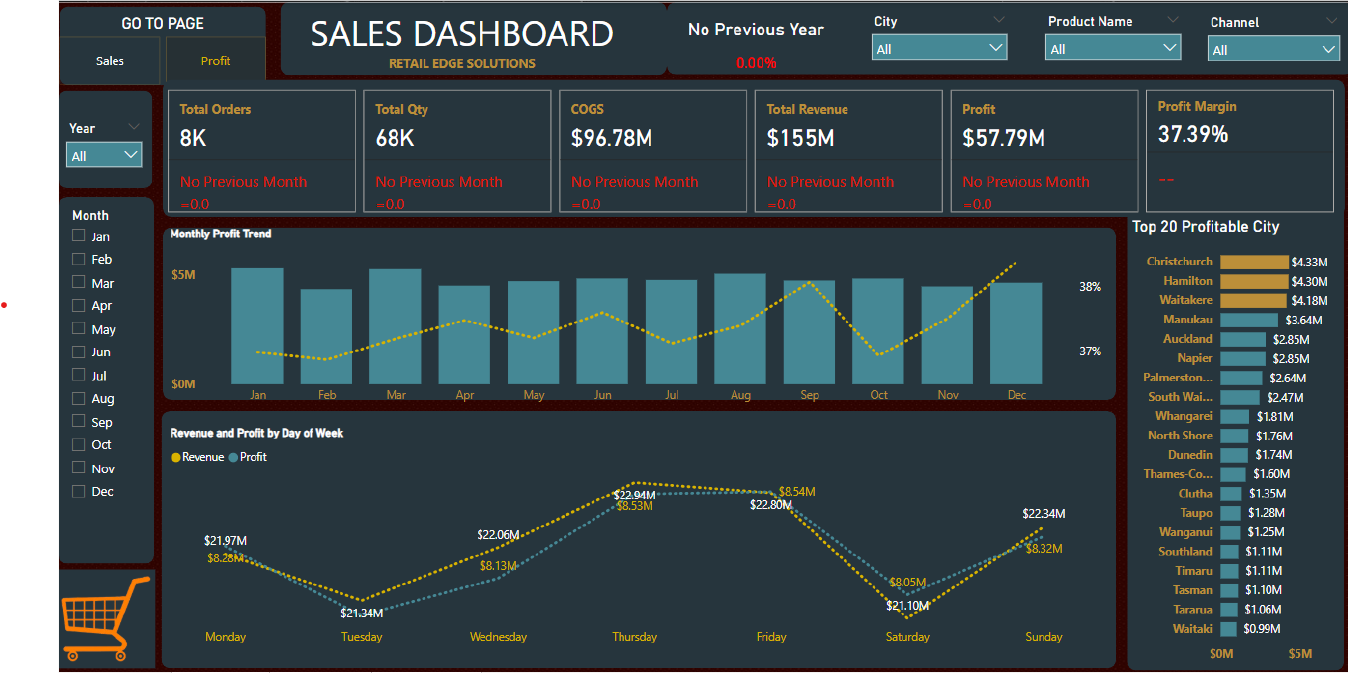

The page's visual inventory and layout, read from the dashboard file:
{"tool":"powerbi","page":{"name":"Profit","canvas":[1400,720],"ordinal":1},"visuals":[{"type":"shape","box":[695.6,6.6,703.9,74.5],"z":0},{"type":"shape","box":[3.3,92.7,1396.1,139.1],"z":1000},{"type":"shape","box":[0,231.9,139.1,488.6],"z":2000},{"type":"shape","box":[144.1,231.9,997,240.1],"z":3000},{"type":"shape","box":[1156,231.9,243.5,488.6],"z":4000},{"type":"shape","box":[144.1,486.9,997,233.5],"z":5000},{"type":"cardVisual","fields":{"Data":["Calculations.Total Orders","Calculations.Qty Ordered","Calculations.Revenue","Calculations.COGS","Calculations.Profit","Calculations.Profit Margin"]},"box":[3.3,92.7,1396.1,139.1],"z":6000},{"type":"slicer","fields":{"Values":["Dim_Calender.Month Name"]},"box":[0,235.2,132.5,485.3],"z":7000},{"type":"lineStackedColumnComboChart","title":"Monthly Profit Trend","fields":{"Category":["Dim_Calender.Month Name"],"Y":["Calculations.Profit"],"Y2":["Calculations.Profit Margin"]},"box":[147.4,235.2,993.7,236.8],"z":8000},{"type":"barChart","title":"Top 20 Profitable City","fields":{"Category":["Dim_Region.City"],"Y":["Calculations.Profit"]},"box":[1155.4,231.5,243.9,487.8],"z":9000},{"type":"lineChart","title":"Revenue and Profit by Day of the Week","fields":{"Category":["Dim_Calender.Day of Week"],"Y":["Calculations.Revenue"],"Y2":["Calculations.Profit"]},"box":[147.4,486.9,993.7,233.5],"z":10000},{"type":"shape","box":[281.5,6.6,390.9,74.5],"z":11000},{"type":"textbox","box":[281.5,0,409.1,81.2],"z":12000},{"type":"shape","box":[3.3,8.3,268.3,74.5],"z":13000},{"type":"pageNavigator","title":"GO TO PAGE","box":[3.3,5,268.3,76.2],"z":14000},{"type":"slicer","fields":{"Values":["Dim_Calender.Year"]},"box":[695.6,5,175.6,76.2],"z":15000},{"type":"slicer","fields":{"Values":["Dim_Region.City"]},"box":[871.1,3.3,168.9,79.5],"z":16000},{"type":"slicer","fields":{"Values":["Dim_Product.Product Name"]},"box":[1035.1,5,168.9,77.8],"z":17000},{"type":"slicer","fields":{"Values":["Fact_Order.Channel"]},"box":[1217.3,5,159,77.8],"z":18000}]}

Visuals, with their boxes on the page's 1400x720 design canvas (x1, y1, x2, y2). These are canvas units, not pixel positions in the 1348x673 screenshot, which may show the page scaled, cropped or inside an application window:
shape: (696,7,1400,81)
shape: (3,93,1399,232)
shape: (0,232,139,720)
shape: (144,232,1141,472)
shape: (1156,232,1400,720)
shape: (144,487,1141,720)
cardVisual - Calculations.Total Orders x Calculations.Qty Ordered: (3,93,1399,232)
slicer - Dim_Calender.Month Name: (0,235,132,720)
"Monthly Profit Trend" lineStackedColumnComboChart: (147,235,1141,472)
"Top 20 Profitable City" barChart: (1155,232,1399,719)
"Revenue and Profit by Day of the Week" lineChart: (147,487,1141,720)
shape: (282,7,672,81)
textbox: (282,0,691,81)
shape: (3,8,272,83)
"GO TO PAGE" pageNavigator: (3,5,272,81)
slicer - Dim_Calender.Year: (696,5,871,81)
slicer - Dim_Region.City: (871,3,1040,83)
slicer - Dim_Product.Product Name: (1035,5,1204,83)
slicer - Fact_Order.Channel: (1217,5,1376,83)
